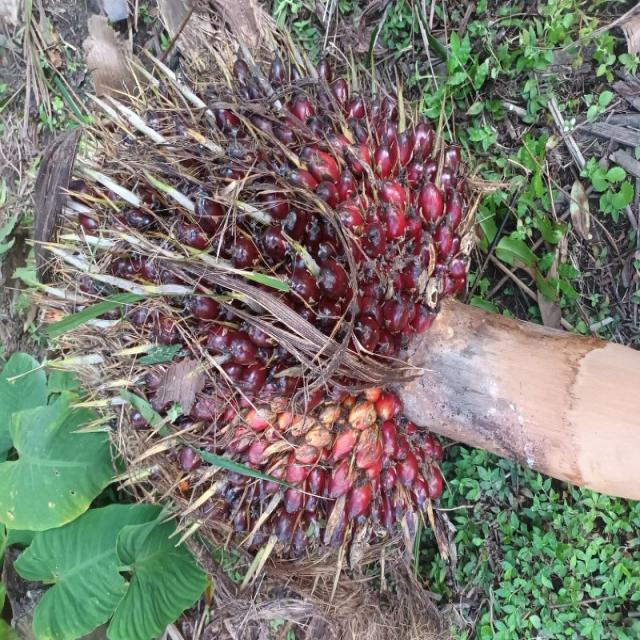fraksi 1: (56, 38, 448, 640)
